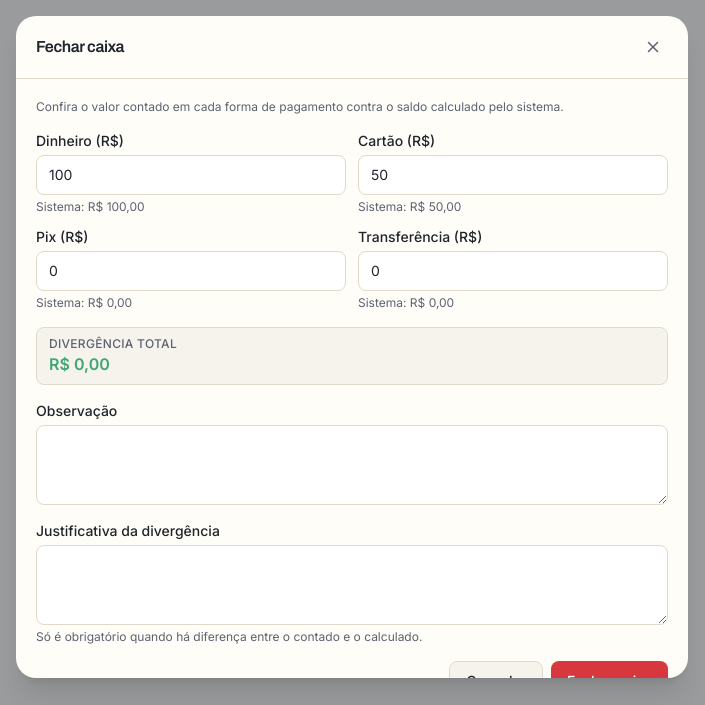
it: FecharCaixaModal › mostra a divergência total em tempo real conforme o usuário digita
Replace the text in the number field labelled "Dinheiro (R$)" with "70" at (191, 175), box [36,155,346,195]
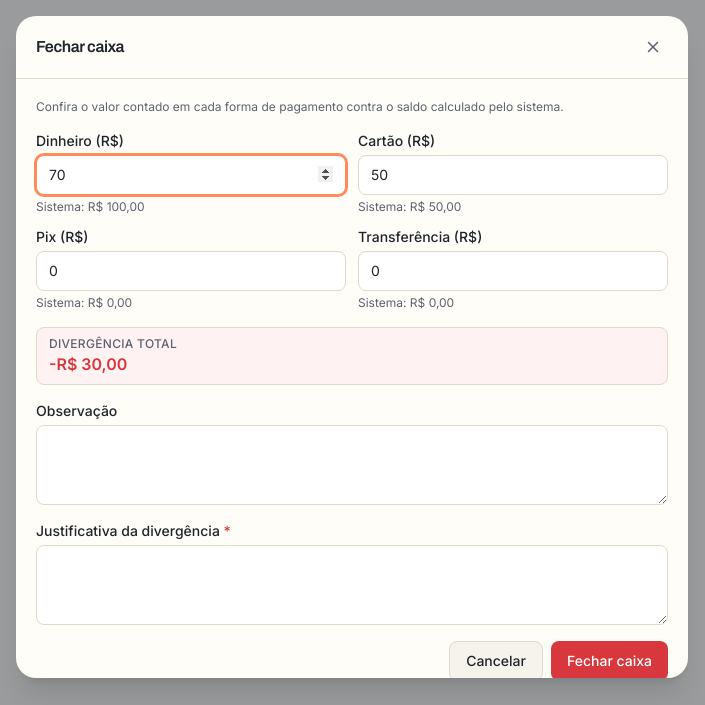
expect the text "-R$ 30,00" is shown: met, box [49,354,127,374]
